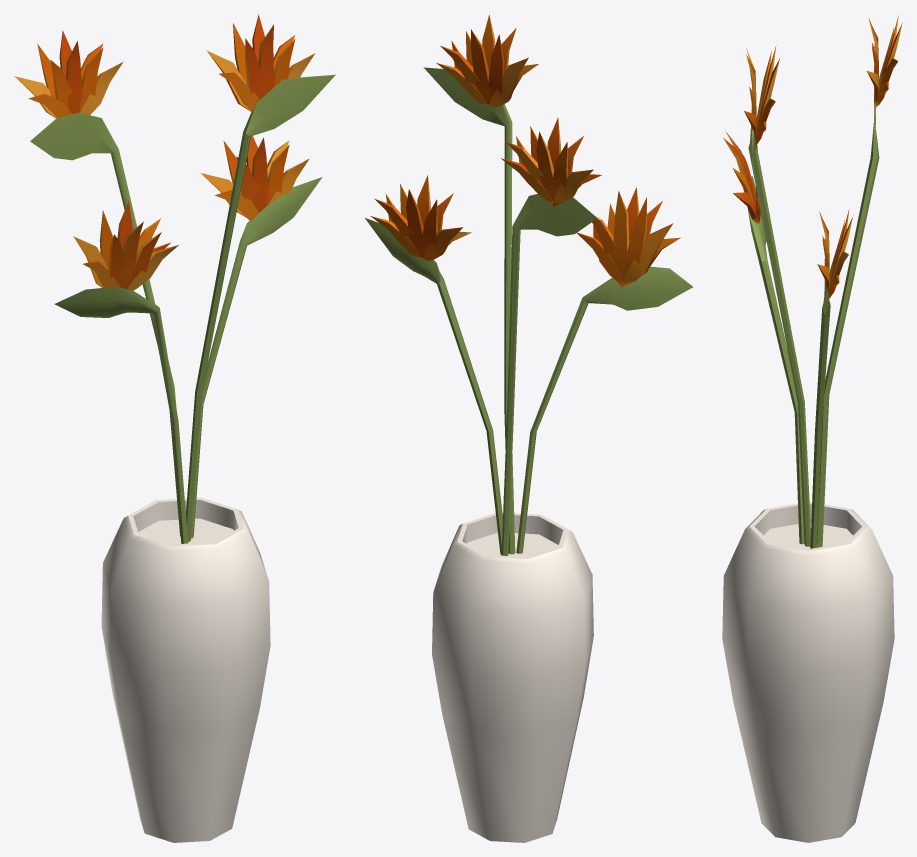
Rendered from flower2.FBX.
The picture shows the model from 3 angles, left to right: view 1: azimuth 30°, elevation 25°; view 2: azimuth 150°, elevation 25°; view 3: azimuth 270°, elevation 25°; orthographic projection. The views are drawn at different scales.
Visible parts, largest first — view 1: flower2; view 2: flower2; view 3: flower2.
Part boxes in pixels (x1,y1,x2,y2): flower2: (14,14,335,842); flower2: (365,14,692,842); flower2: (722,15,902,842).
Bounding box in the file's own units: 31 × 78.28 × 16.07.
